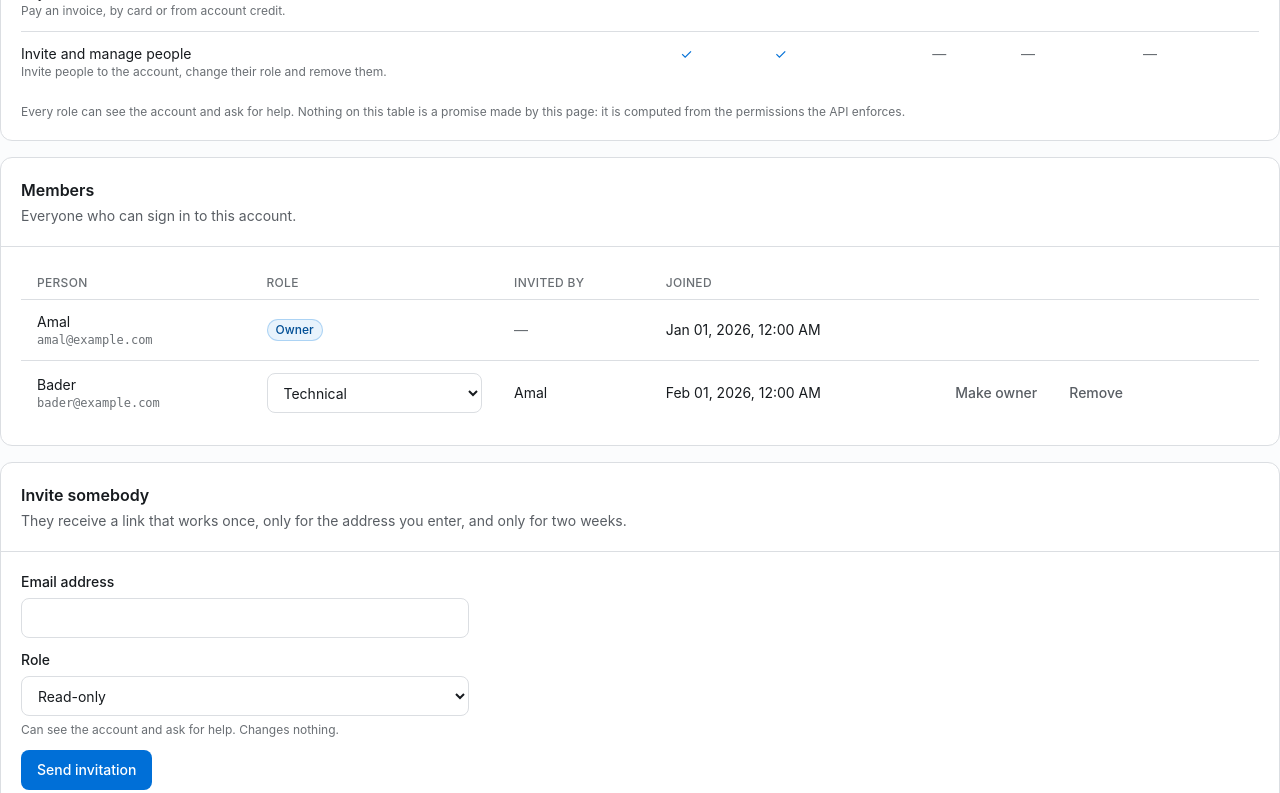
it: changing a colleague’s role › warns when the new role can remove the person granting it
The width and height of the screenshot is (1280, 793).
(page scrolled)
Select "Administrator" in the 1st dropdown at coordinates (374, 393), box top-left (266, 373), bottom-right (482, 413)
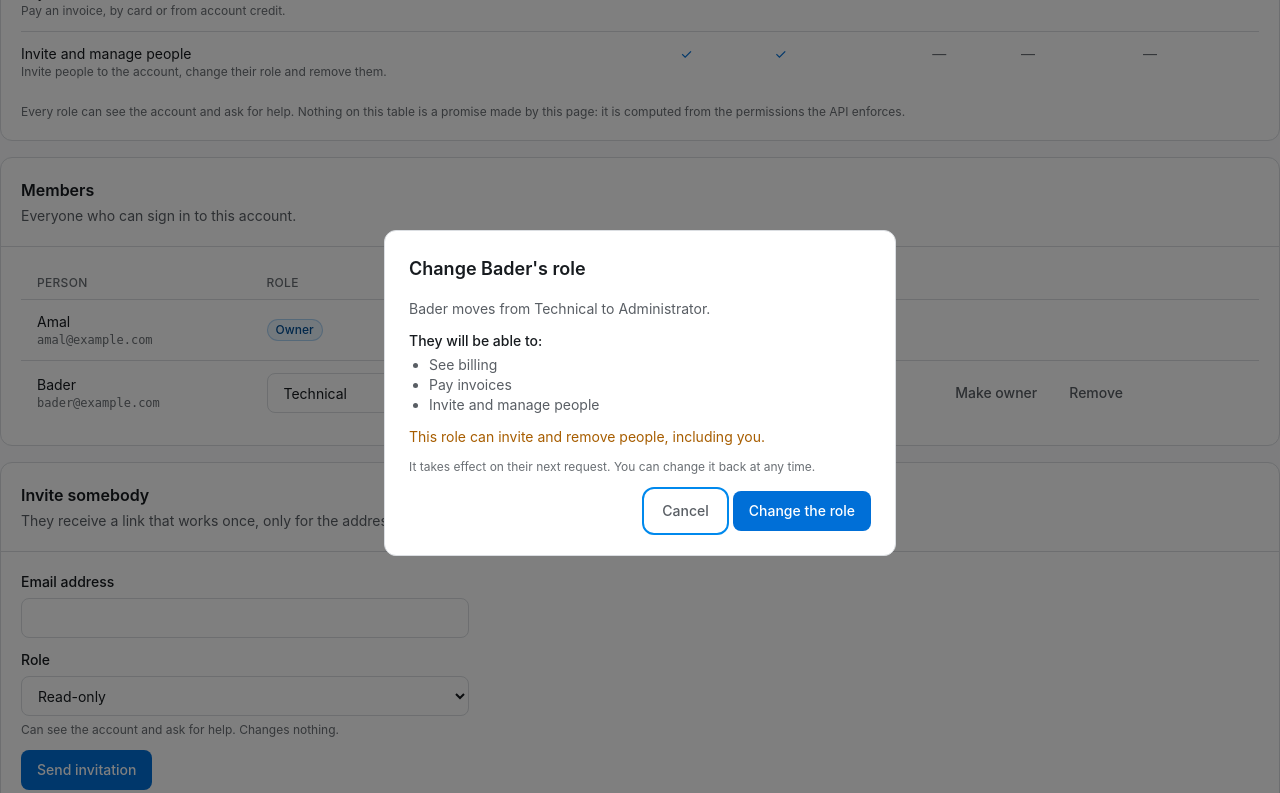
Expected: the text "This role can invite and remove people, including you." is shown, top-left (409, 428), bottom-right (765, 445)
